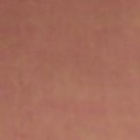ImgView: (1, 1, 139, 139)
